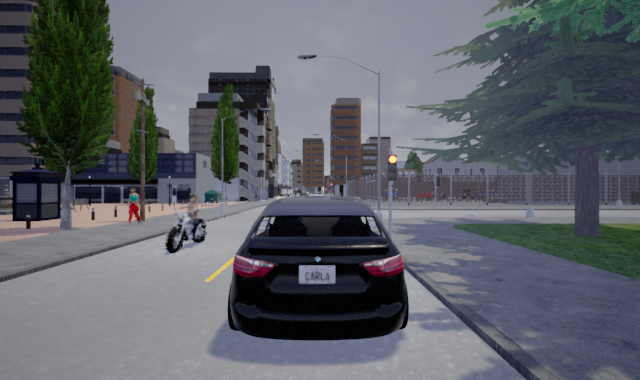motobike: (165, 193, 209, 254)
pedestrian: (123, 185, 145, 225)
vehicle: (227, 196, 409, 341)
